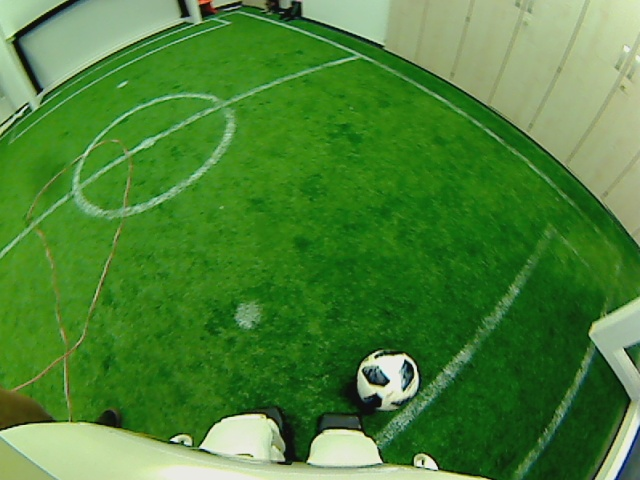ball: (355, 347, 422, 413)
